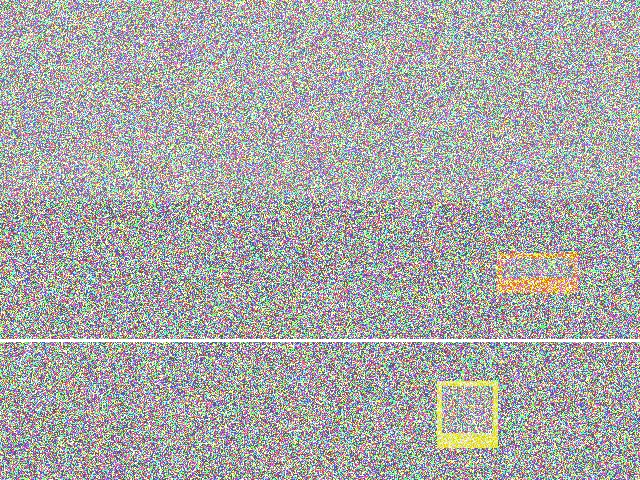car: (113, 200, 300, 274)
motorcycle: (482, 178, 604, 289)
